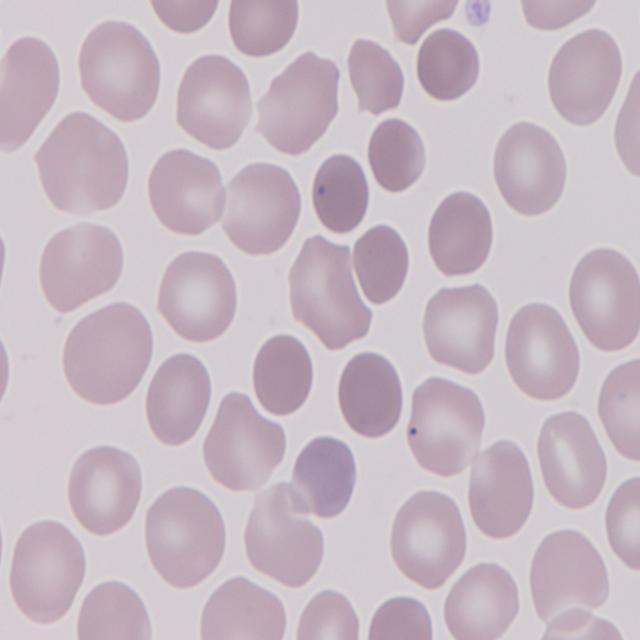RBC: (32, 110, 130, 225), (62, 302, 156, 408), (74, 18, 164, 126), (142, 484, 230, 590), (526, 522, 611, 630), (406, 368, 489, 478), (255, 54, 342, 158), (7, 516, 86, 630), (218, 158, 306, 260), (563, 241, 640, 357), (386, 483, 468, 591), (532, 408, 612, 517), (173, 53, 259, 154), (202, 393, 288, 492), (506, 300, 586, 406), (38, 216, 126, 312), (490, 115, 570, 219), (157, 248, 242, 344), (546, 27, 624, 131), (421, 283, 507, 377), (464, 434, 536, 544), (146, 148, 229, 242), (65, 444, 144, 542), (0, 33, 65, 147), (146, 350, 216, 451), (426, 189, 496, 283), (442, 557, 519, 640), (200, 575, 292, 640), (592, 350, 640, 466), (343, 40, 409, 119), (414, 24, 479, 104), (222, 0, 301, 63), (75, 579, 153, 640), (380, 0, 468, 46), (290, 588, 366, 640), (602, 475, 640, 576), (610, 62, 640, 181), (145, 0, 225, 44), (364, 593, 437, 640), (512, 0, 605, 36), (0, 312, 10, 428)
Spherocyte: (333, 348, 406, 444), (288, 432, 358, 522), (250, 333, 318, 423), (366, 109, 430, 198), (306, 152, 371, 239), (352, 224, 412, 310)
